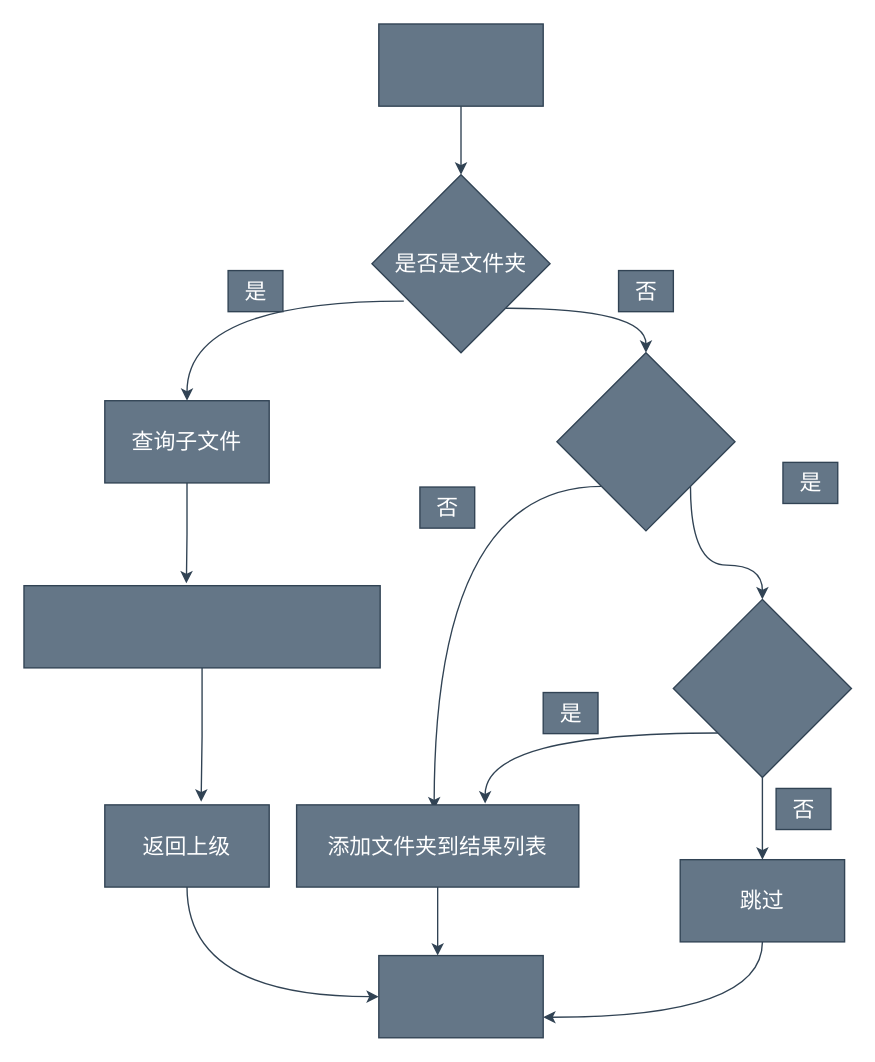
This 875x1062 diagram has some shape labels left out. The shapes that lost their labels are listed below. From the top down, each one's box as (x1, y1, x2, y2) in pixels, then its label:
(377, 23, 543, 106): 开始
(556, 351, 735, 531): 是否只存储文件夹
(23, 584, 380, 668): 递归调用 findAllaccountFileDOWithRecur
(672, 598, 851, 777): 是否为文件夹
(377, 954, 543, 1038): 结束循环
